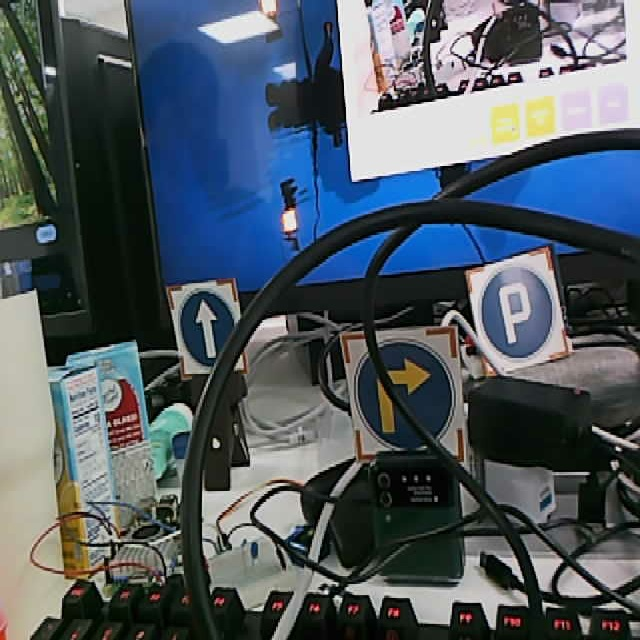parking: (465, 243, 574, 378)
right: (339, 325, 464, 456)
straight: (166, 279, 249, 380)
